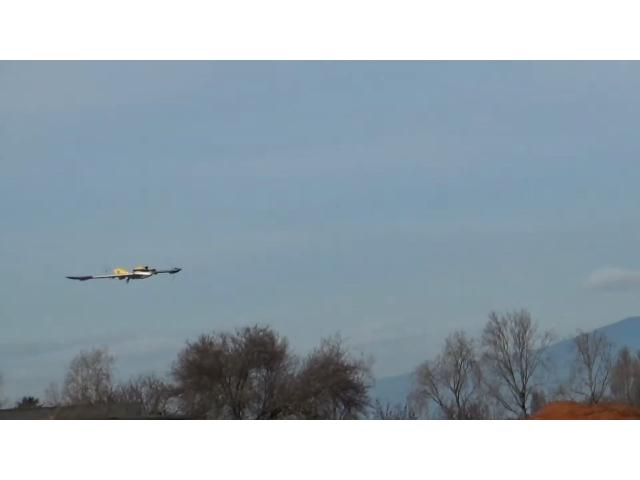Anti-Drone: (66, 267, 182, 283)
